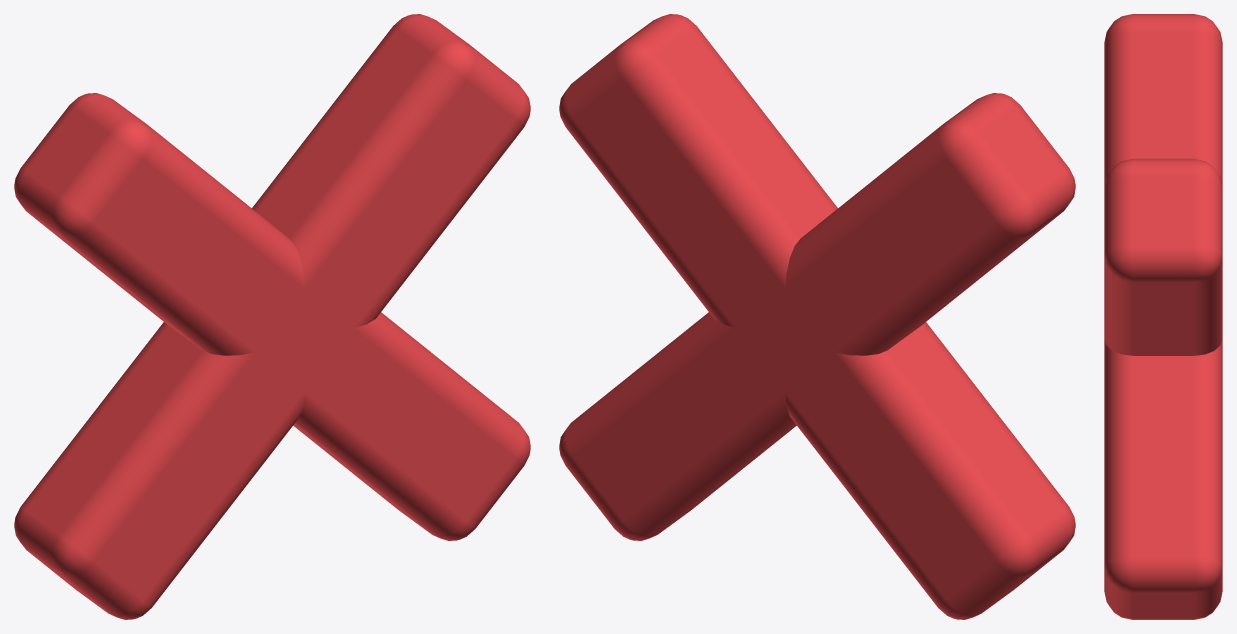
The picture shows the model from 3 angles, left to right: view 1: azimuth 30°, elevation 25°; view 2: azimuth 150°, elevation 25°; view 3: azimuth 270°, elevation 25°; orthographic projection. The views are drawn at different scales.
Visible parts, largest first — view 1: mark_0, mark_1; view 2: mark_0, mark_1; view 3: mark_1, mark_0.
Part boxes in pixels (box(x1,y1,x2,y2)): mark_0: box(14, 14, 530, 619); mark_1: box(14, 93, 530, 540); mark_0: box(559, 14, 1075, 619); mark_1: box(559, 93, 1075, 540); mark_1: box(1104, 14, 1222, 619); mark_0: box(1104, 158, 1222, 355).
Size of the model in its own units: 0.9554 by 0.9554 by 0.2245.
